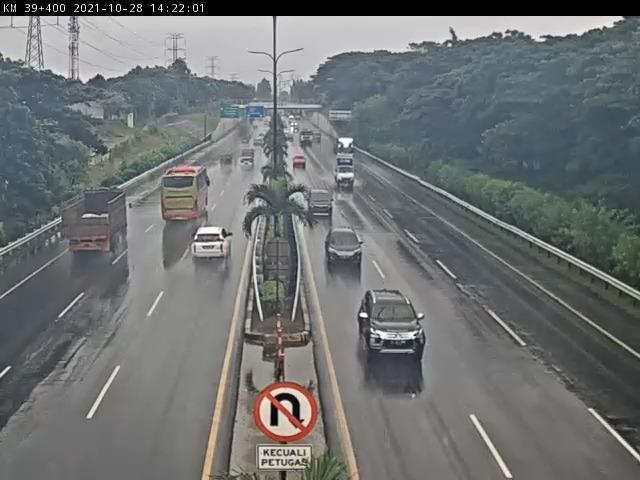bus: (160, 167, 212, 228)
car: (357, 288, 427, 359), (191, 227, 233, 267), (325, 227, 365, 268), (304, 186, 338, 218), (239, 156, 257, 174), (216, 153, 235, 169), (293, 155, 309, 172)
truck: (64, 190, 131, 257), (334, 156, 357, 191)
